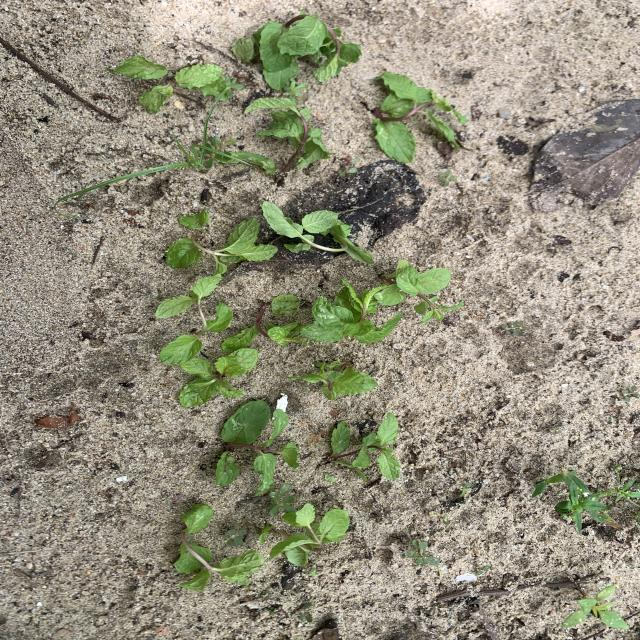crop: (158, 216, 277, 317), (234, 11, 360, 88), (213, 97, 329, 179), (373, 72, 467, 162), (216, 400, 298, 494), (175, 504, 262, 590), (260, 202, 372, 263), (301, 279, 402, 343), (373, 261, 463, 323), (269, 504, 349, 567), (325, 413, 399, 481), (223, 294, 305, 351), (178, 349, 256, 405), (160, 304, 231, 363), (287, 361, 375, 399), (562, 585, 627, 628), (175, 64, 231, 98), (109, 55, 169, 80), (139, 85, 173, 113), (178, 209, 210, 229)
weed: (531, 466, 640, 534), (89, 159, 213, 190), (203, 136, 238, 167), (405, 541, 439, 568), (269, 485, 295, 515), (224, 522, 247, 545), (437, 170, 457, 187), (501, 321, 525, 335), (258, 525, 274, 543), (296, 603, 311, 622), (456, 483, 471, 499), (622, 387, 639, 400), (340, 165, 358, 176), (325, 475, 335, 482), (262, 591, 270, 597)
